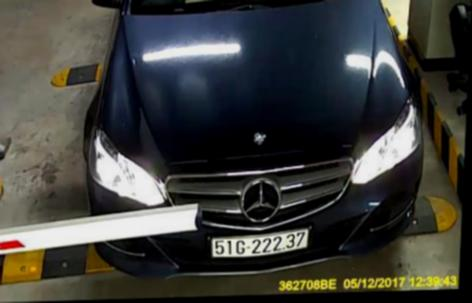License_Plate: (204, 224, 315, 258)
